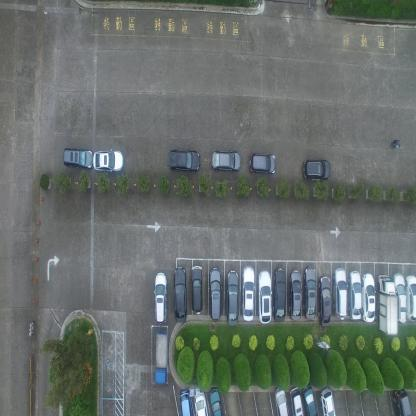car: (376, 273, 398, 337), (172, 264, 187, 324), (257, 269, 273, 325), (224, 268, 239, 327), (241, 264, 256, 322), (153, 269, 168, 325), (392, 272, 408, 324), (92, 147, 124, 173), (167, 148, 200, 173), (317, 274, 332, 328), (333, 267, 348, 321), (62, 145, 94, 170), (207, 265, 221, 322), (273, 266, 287, 323), (154, 328, 168, 385), (288, 268, 302, 321), (303, 265, 316, 322), (210, 147, 242, 170), (361, 271, 375, 323), (189, 263, 203, 314), (303, 157, 331, 182), (248, 150, 276, 175), (349, 270, 362, 322), (392, 386, 412, 416), (273, 384, 289, 416), (405, 274, 415, 323), (302, 385, 317, 415), (320, 387, 336, 415), (289, 386, 304, 415), (194, 386, 208, 415), (209, 386, 223, 415), (179, 388, 193, 415)
